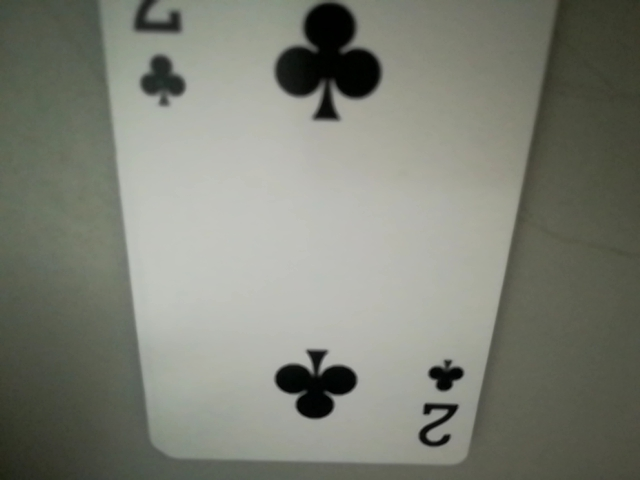mh 2: (409, 353, 473, 458)
